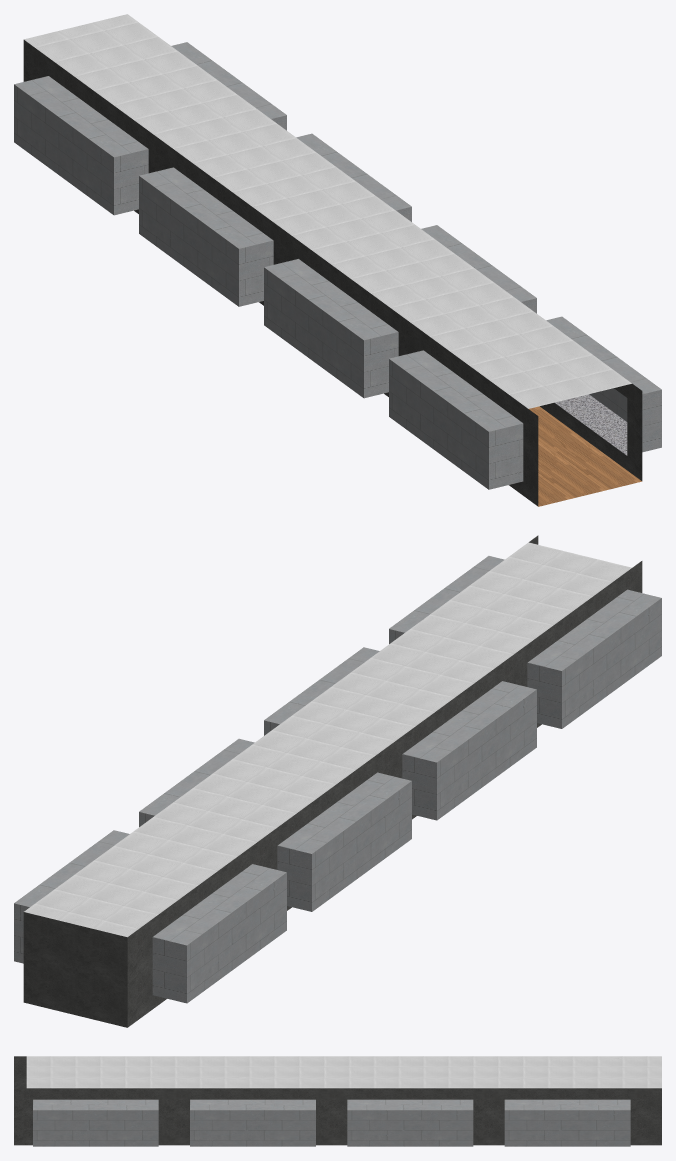
The model's file is aileM1.gltf.
3 views of the same model, one above another, from view 1: azimuth 30°, elevation 25°; view 2: azimuth 150°, elevation 25°; view 3: azimuth 270°, elevation 25° (orthographic). The views are drawn at different scales.
Parts seen in each view (by area): view 1: Renfocements, Toit, Murs, Sol; view 2: Renfocements, Toit, Murs; view 3: Renfocements, Toit, Murs.
Part boxes in pixels (<box>): Renfocements: <box>14,42,661,489</box>; Toit: <box>24,14,631,408</box>; Murs: <box>23,40,642,506</box>; Sol: <box>529,406,641,506</box>; Renfocements: <box>14,556,661,1003</box>; Toit: <box>24,542,631,937</box>; Murs: <box>23,535,642,1027</box>; Renfocements: <box>33,1099,630,1146</box>; Toit: <box>26,1056,661,1088</box>; Murs: <box>14,1056,661,1145</box>.
Size of the model in its own units: 10 by 5 by 51.5.
Materials: 5 (5 with a texture image).
